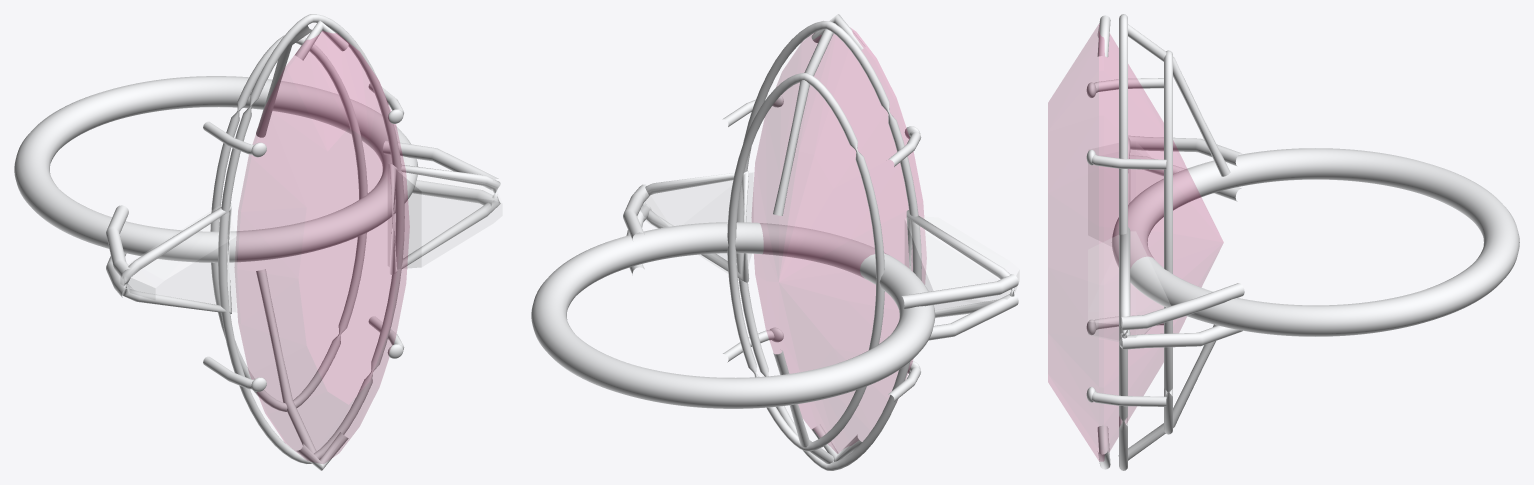
The model's file is ruby-ring.glb.
3 renders of one model, left to right at view 1: azimuth 30°, elevation 25°; view 2: azimuth 150°, elevation 25°; view 3: azimuth 270°, elevation 25°, orthographic.
Parts seen in each view (by area): view 1: Marquise ruby | crown, girdle and pavilion, White gold setting and links | approximate, Right tapered side diamond | convex optical study, Left tapered side diamond | convex optical study; view 2: White gold setting and links | approximate, Marquise ruby | crown, girdle and pavilion, Left tapered side diamond | convex optical study, Right tapered side diamond | convex optical study; view 3: White gold setting and links | approximate, Marquise ruby | crown, girdle and pavilion, Right tapered side diamond | convex optical study, Left tapered side diamond | convex optical study.
Boxes of the visible parts, x1,y1,x2,y2 form: Marquise ruby | crown, girdle and pavilion: (235,31,409,463); White gold setting and links | approximate: (14,14,500,470); Right tapered side diamond | convex optical study: (388,164,502,268); Left tapered side diamond | convex optical study: (120,205,236,311); White gold setting and links | approximate: (531,14,1018,470); Marquise ruby | crown, girdle and pavilion: (751,28,926,453); Left tapered side diamond | convex optical study: (905,216,1019,316); Right tapered side diamond | convex optical study: (640,173,753,280); White gold setting and links | approximate: (1086,14,1519,470); Marquise ruby | crown, girdle and pavilion: (1048,24,1223,461); Right tapered side diamond | convex optical study: (1088,231,1170,341); Left tapered side diamond | convex optical study: (1088,142,1163,241).
Bounding box in the file's own units: 2.17 × 2.45 × 2.31.
